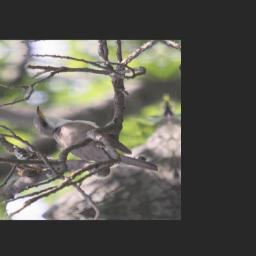Cuckoo: (28, 97, 163, 180)
